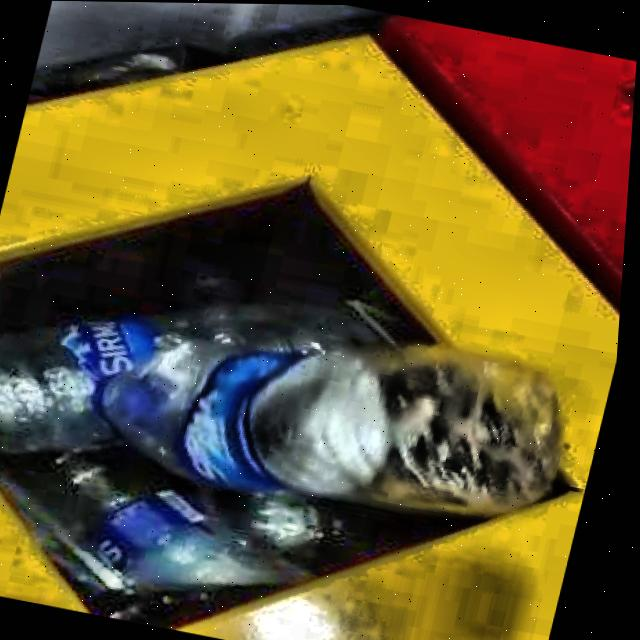plastic: (111, 341, 568, 518)
